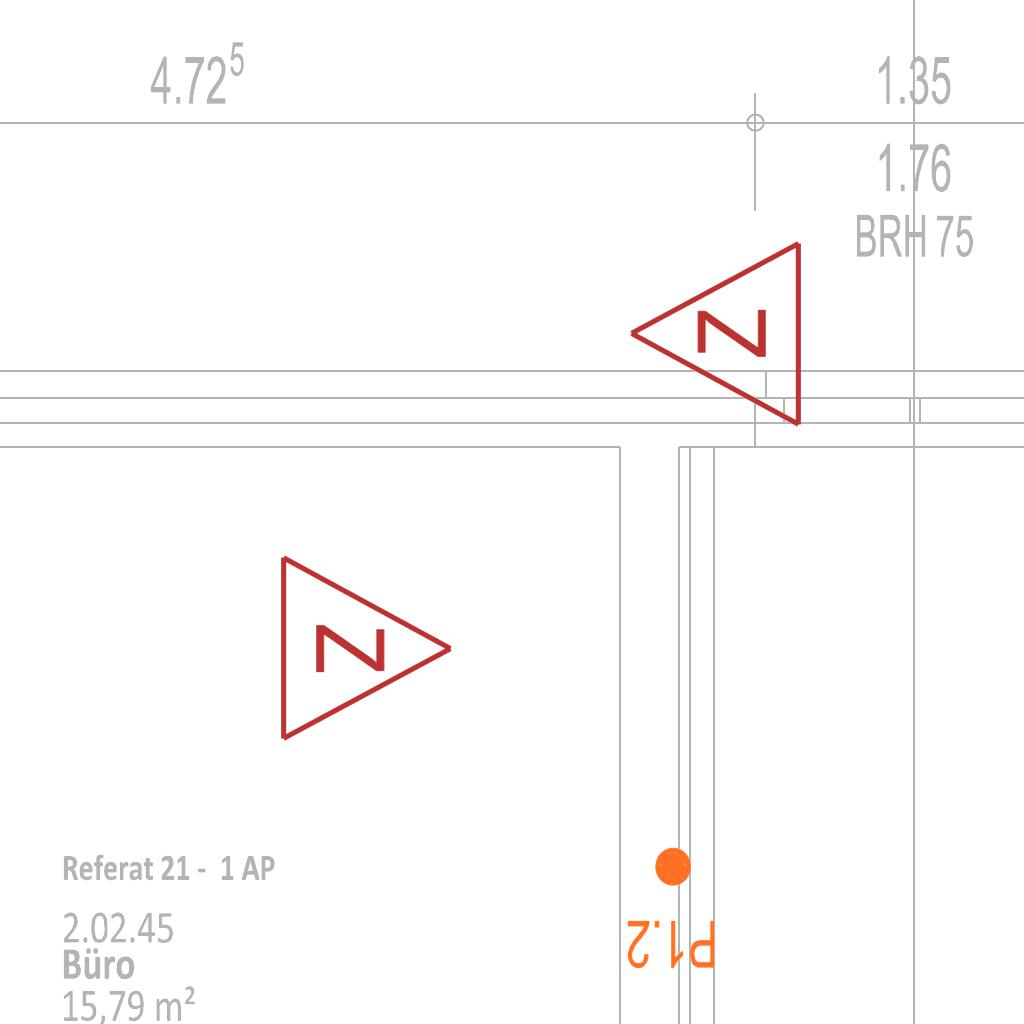Downlight_LED_Einbauleuchten_Flur: (625, 844, 718, 972)
Zimmersignalleuchte: (266, 548, 466, 744), (616, 238, 816, 434)
